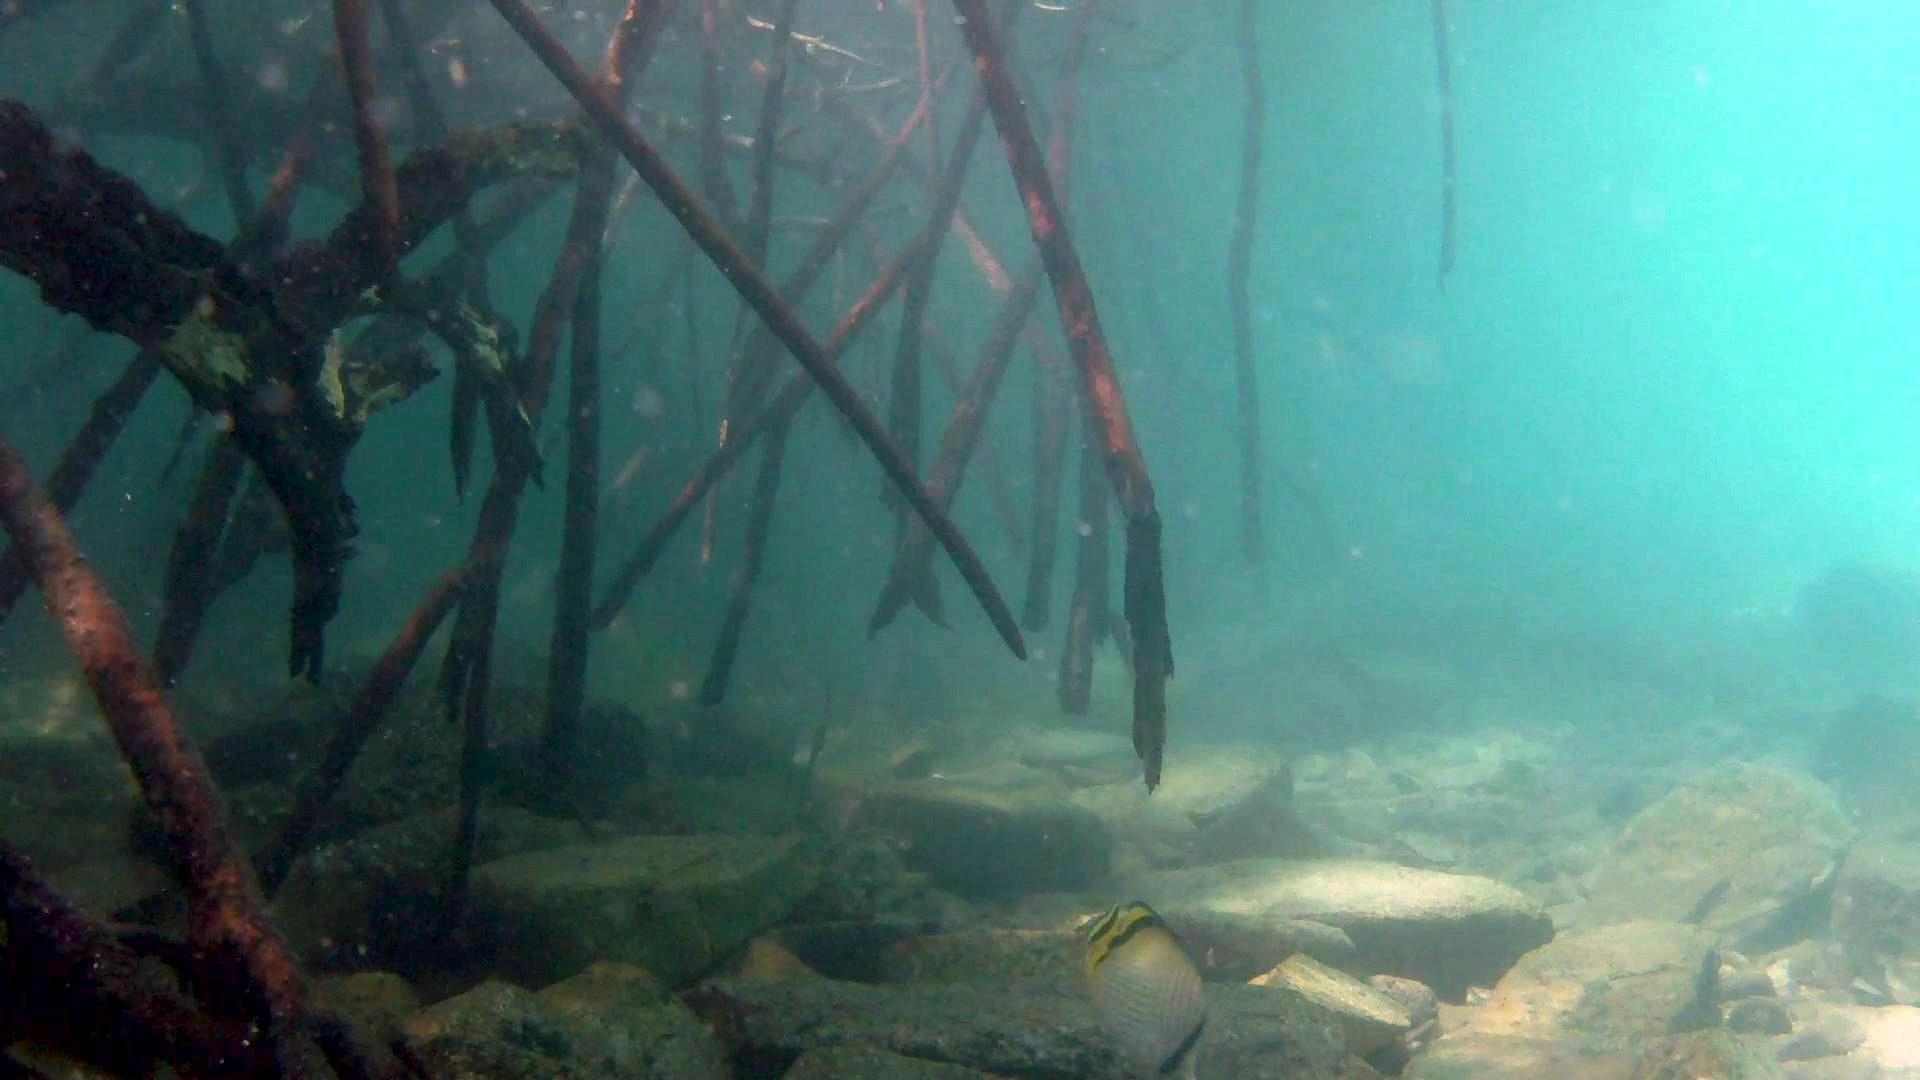chaetodon vagabundus: (1080, 898, 1213, 1080)
